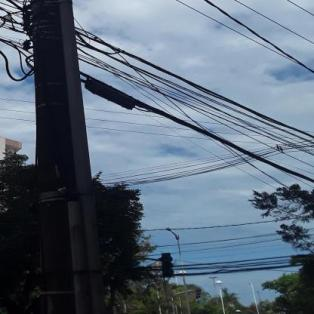Poste: (3, 0, 110, 309)
